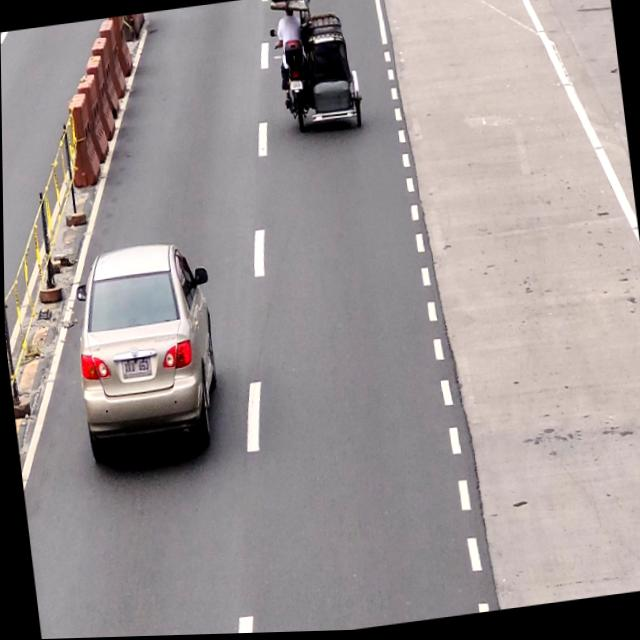Car: (71, 241, 223, 452)
License-Plate: (117, 354, 151, 384)
Tricycle: (270, 0, 360, 142)
